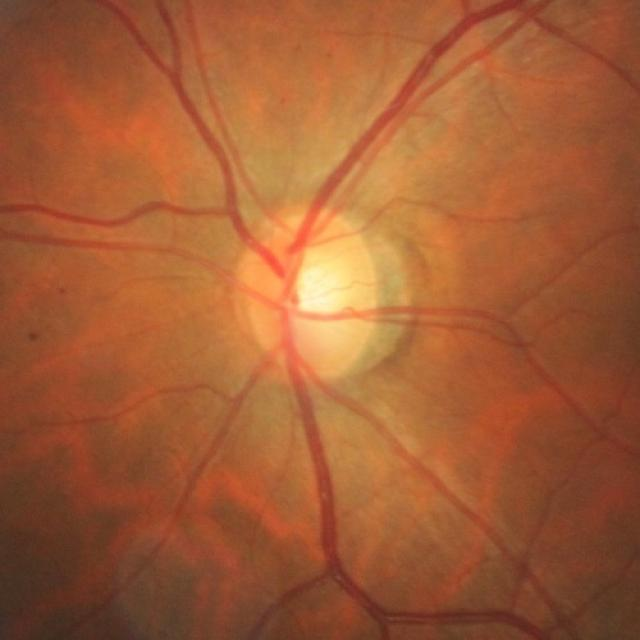OC: (295, 262, 347, 312)
OD: (245, 217, 379, 376)
